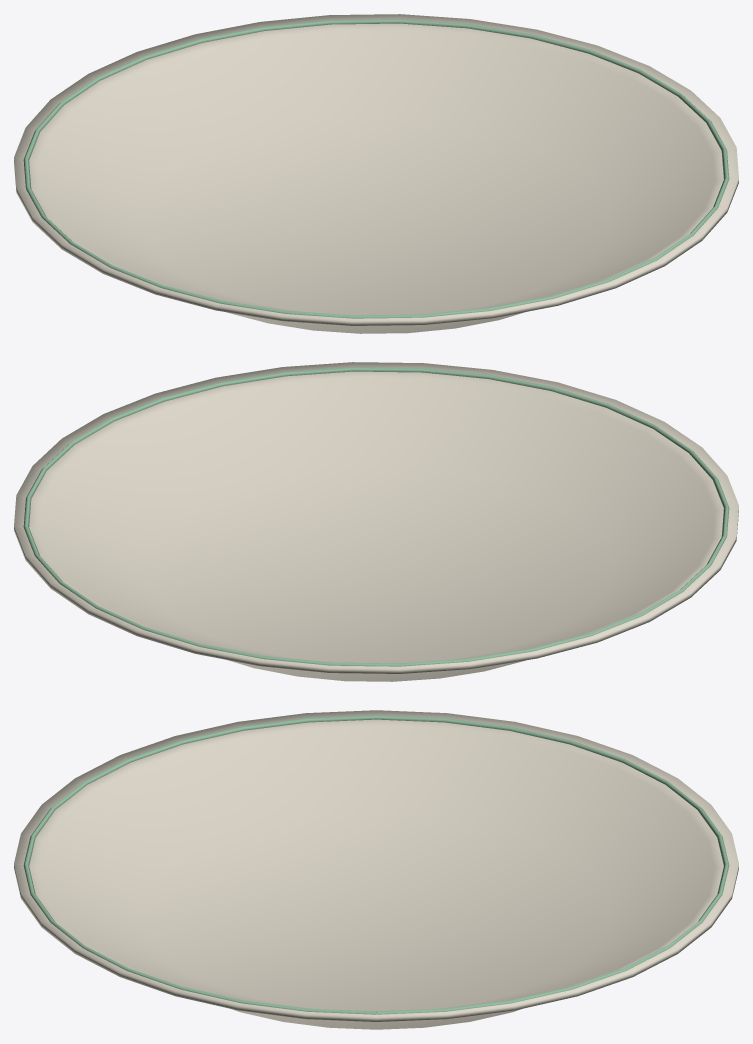
File: assiette.glb
The picture shows the model from 3 angles, top to bottom: view 1: azimuth 30°, elevation 25°; view 2: azimuth 150°, elevation 25°; view 3: azimuth 270°, elevation 25°; orthographic projection.
Parts seen in each view (by area): view 1: assiette; view 2: assiette; view 3: assiette.
Boxes of the visible parts, <box> form: assiette: <box>14,14,738,333</box>; assiette: <box>14,362,738,681</box>; assiette: <box>14,710,738,1029</box>.
Bounding box in the file's own units: 0.24 × 0.03 × 0.24.
